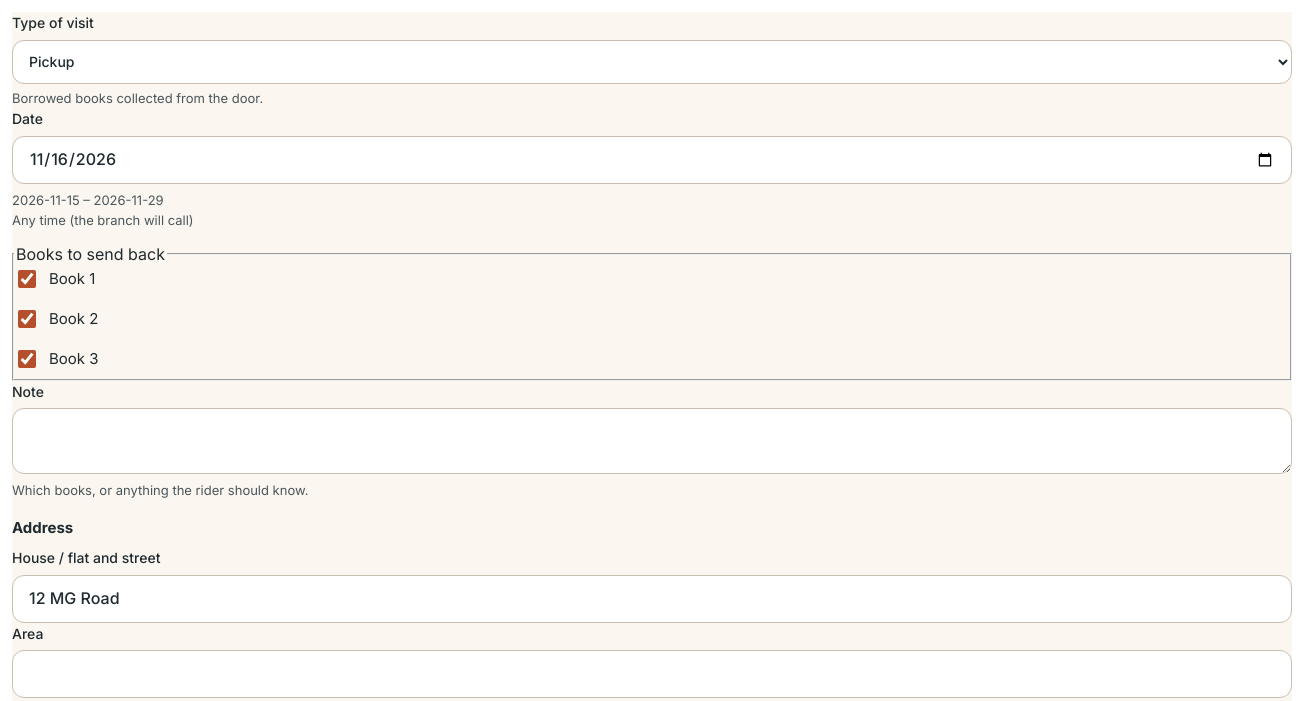
Test case: booking a home visit › keeps the books a person chose for a pickup when the visit becomes an exchange
Click the checkbox labelled "Book 3" at (27, 359), box [18,350,36,368]
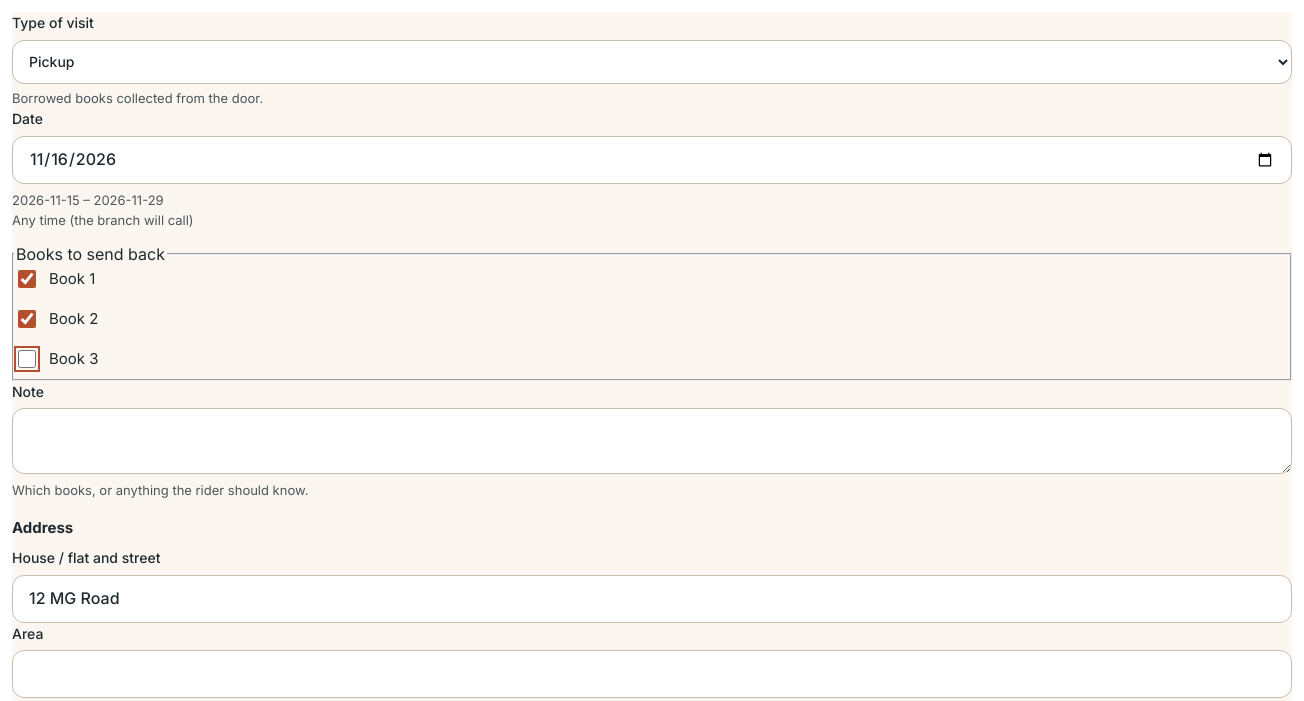
Select "Exchange" in the dropdown labelled "Type of visit" at (652, 62), box [12,40,1292,84]
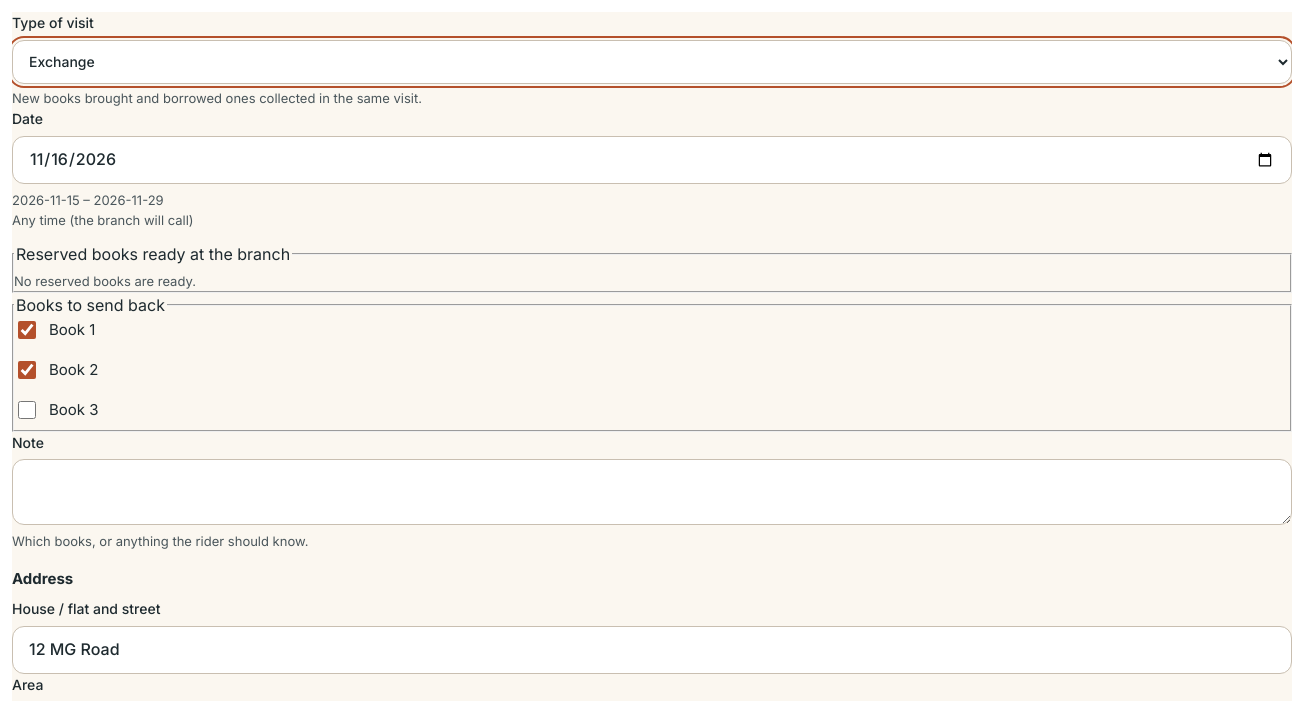
Now the checkbox labelled "Book 3" is not checked, box [18,400,36,418]
